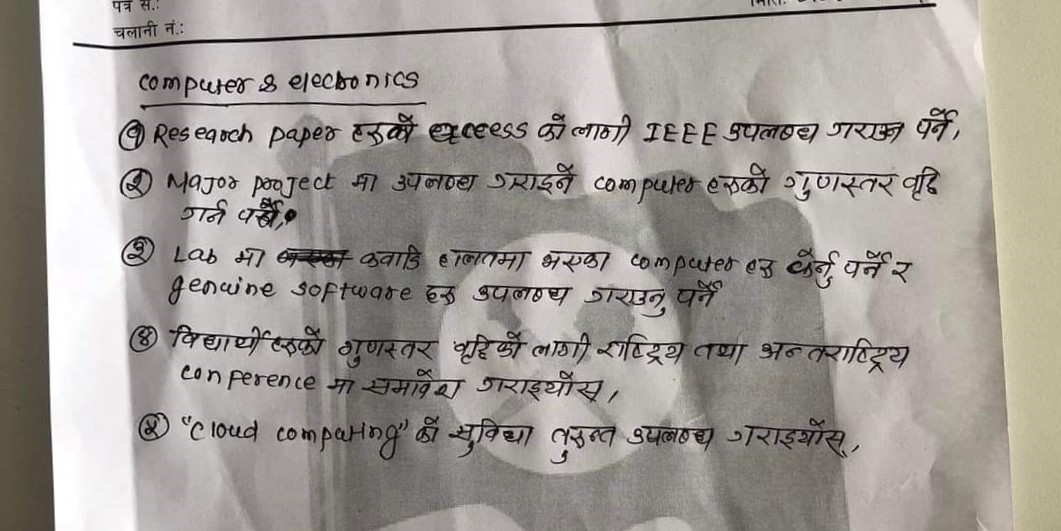text: (758, 332, 912, 376), (166, 318, 325, 359), (724, 416, 851, 462), (782, 164, 899, 204), (474, 371, 608, 405), (358, 366, 466, 404), (335, 336, 440, 370), (448, 415, 534, 456), (485, 160, 579, 197), (547, 420, 620, 467), (595, 331, 688, 367), (624, 422, 718, 456), (585, 282, 669, 319), (453, 328, 524, 369), (704, 162, 773, 203), (469, 281, 573, 308), (721, 120, 823, 147), (436, 245, 530, 274), (389, 167, 481, 196), (346, 113, 418, 149), (782, 247, 839, 291), (569, 110, 633, 148), (824, 118, 904, 147), (529, 331, 594, 366), (538, 247, 618, 273), (356, 244, 423, 273), (910, 106, 955, 148), (673, 274, 724, 310), (901, 161, 943, 204), (839, 248, 893, 281), (232, 198, 284, 230), (689, 338, 747, 366), (180, 198, 231, 227), (423, 279, 461, 311), (740, 255, 781, 284), (533, 111, 568, 144), (227, 243, 268, 267), (888, 256, 916, 289), (411, 415, 441, 445), (347, 170, 380, 197), (324, 374, 358, 398)
